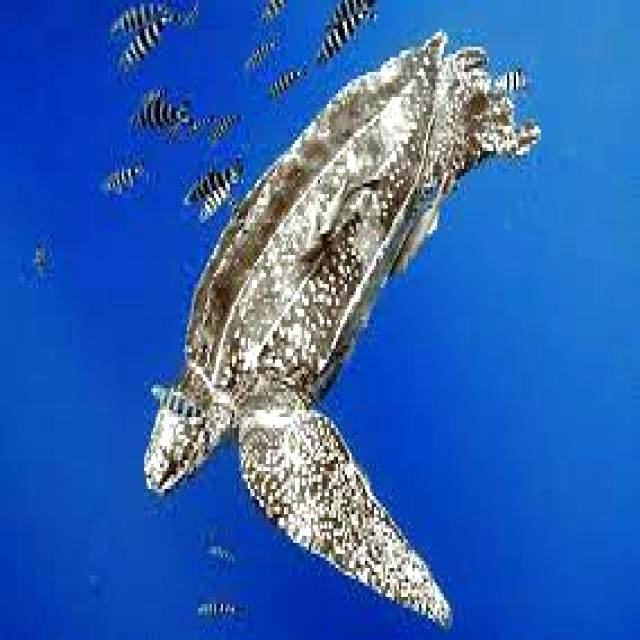Sea turtle: (142, 36, 543, 640)
